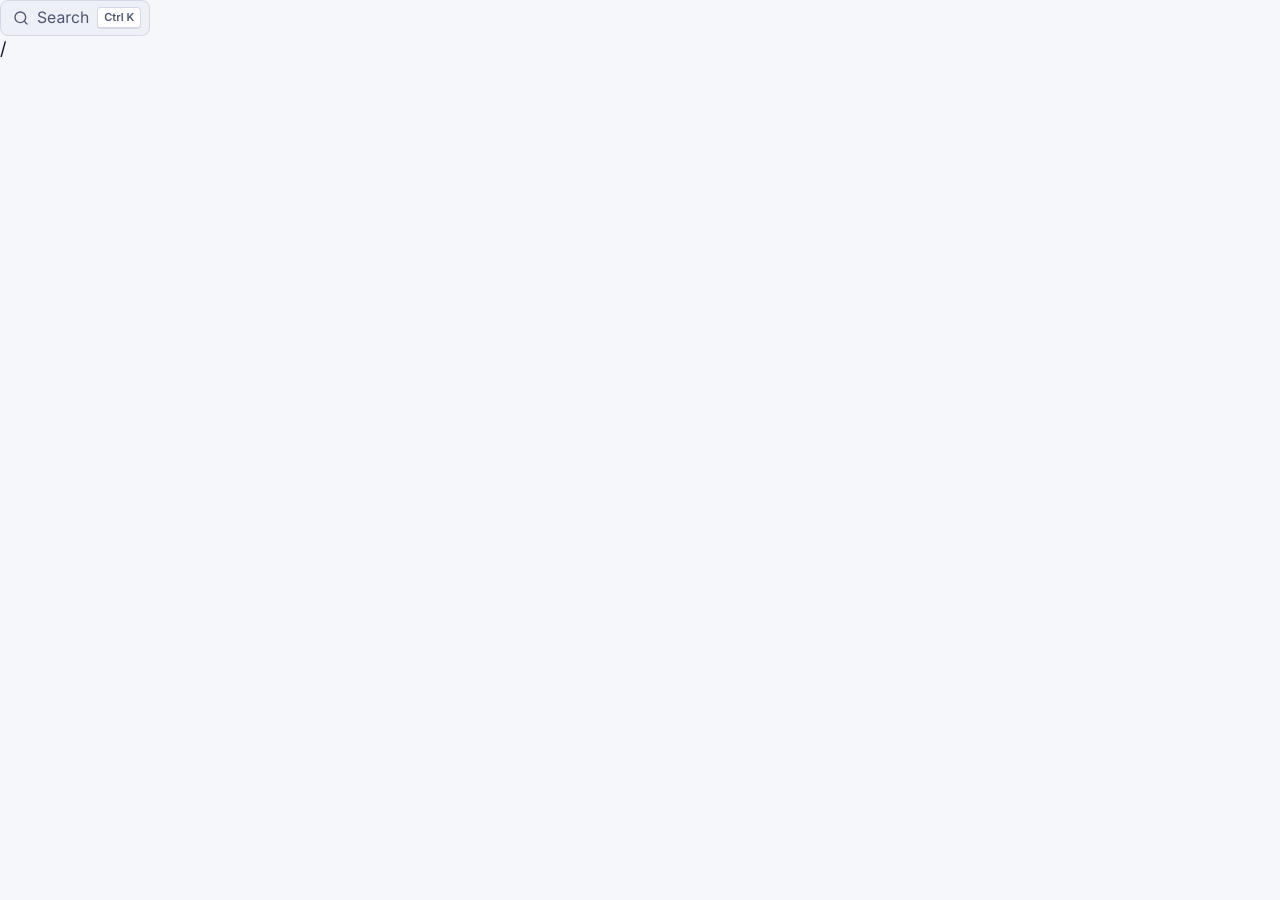
Test: command palette › opens with Ctrl+K, searches the API and opens the chosen result
Press k
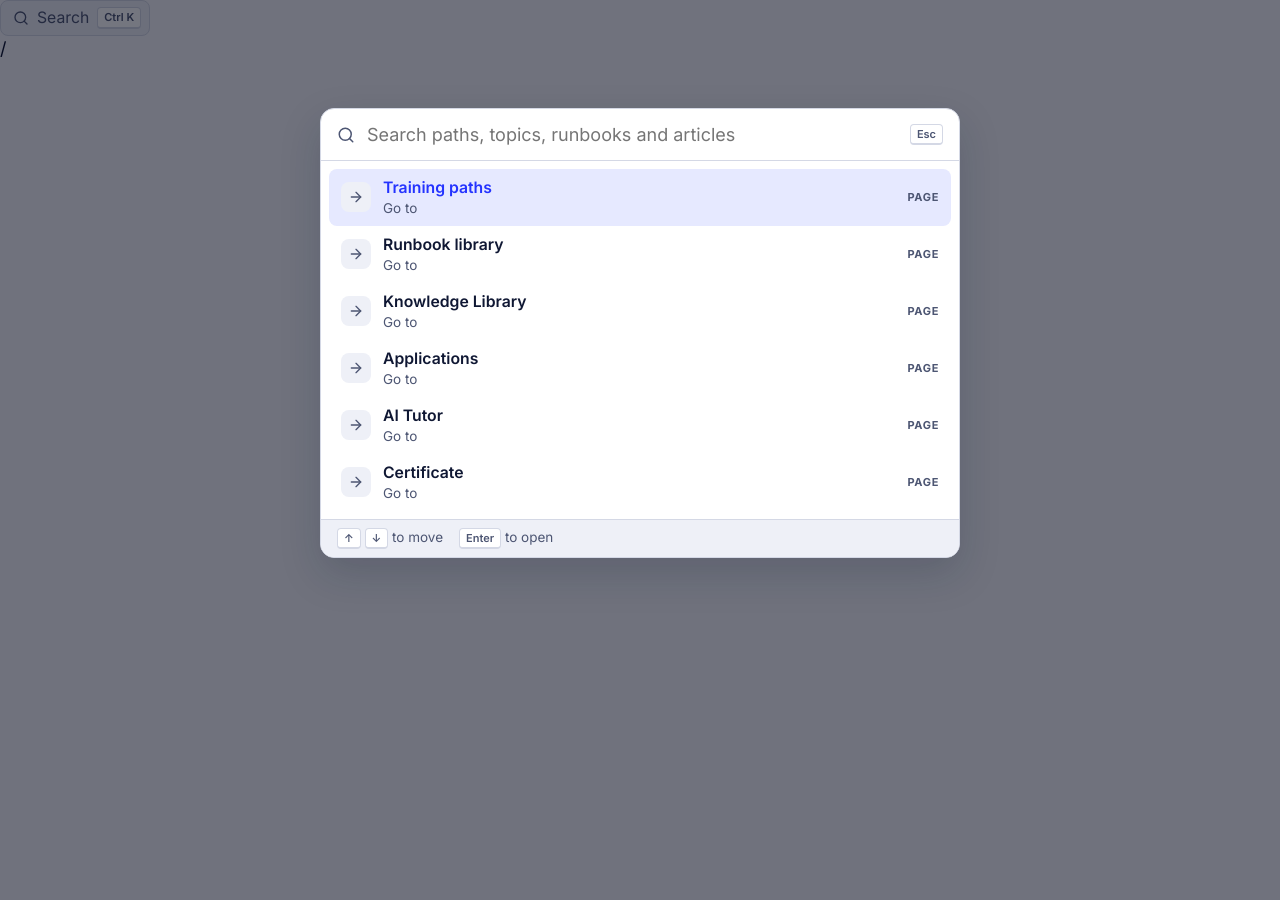
In the dropdown labelled "Search paths, topics, runbooks and articles": (632, 134) x1=367 y1=121 x2=898 y2=148, type "settle"
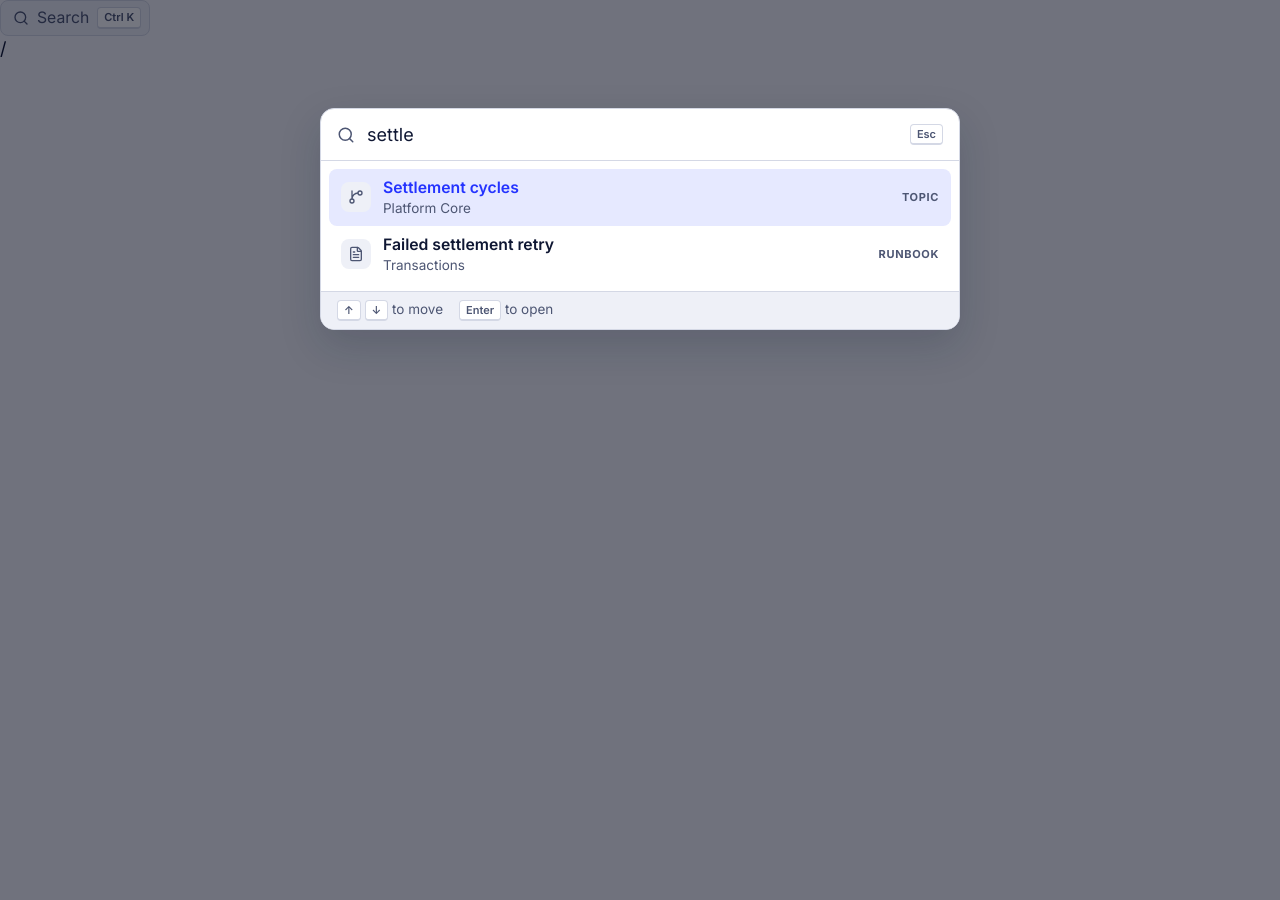
Result: the option "Failed settlement retry Transactions Runbook" is shown at x1=329 y1=226 x2=951 y2=283
Press ArrowDown in the dropdown named "Search paths, topics, runbooks and articles", box x1=367 y1=121 x2=898 y2=148
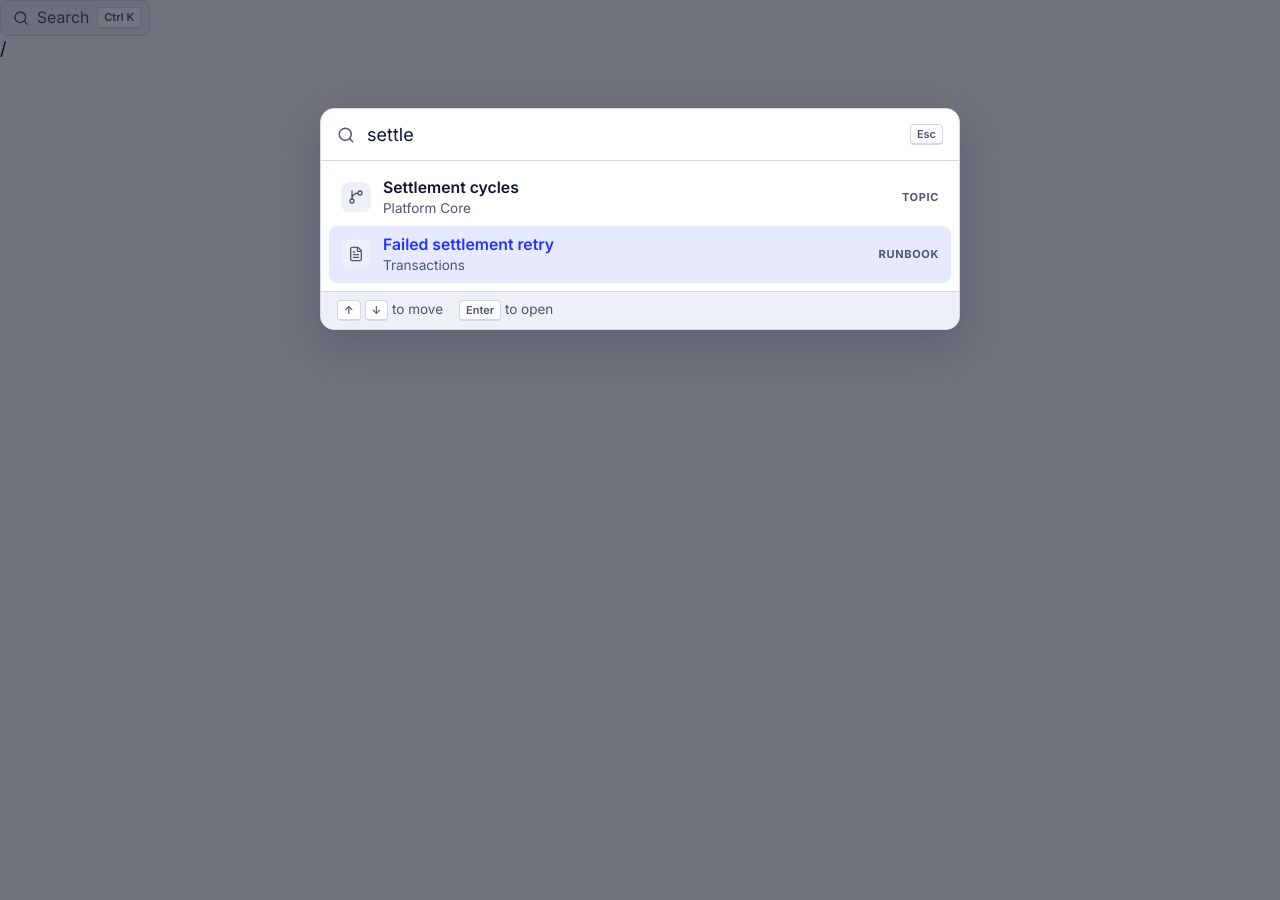
Press Enter in the dropdown named "Search paths, topics, runbooks and articles", box x1=367 y1=121 x2=898 y2=148
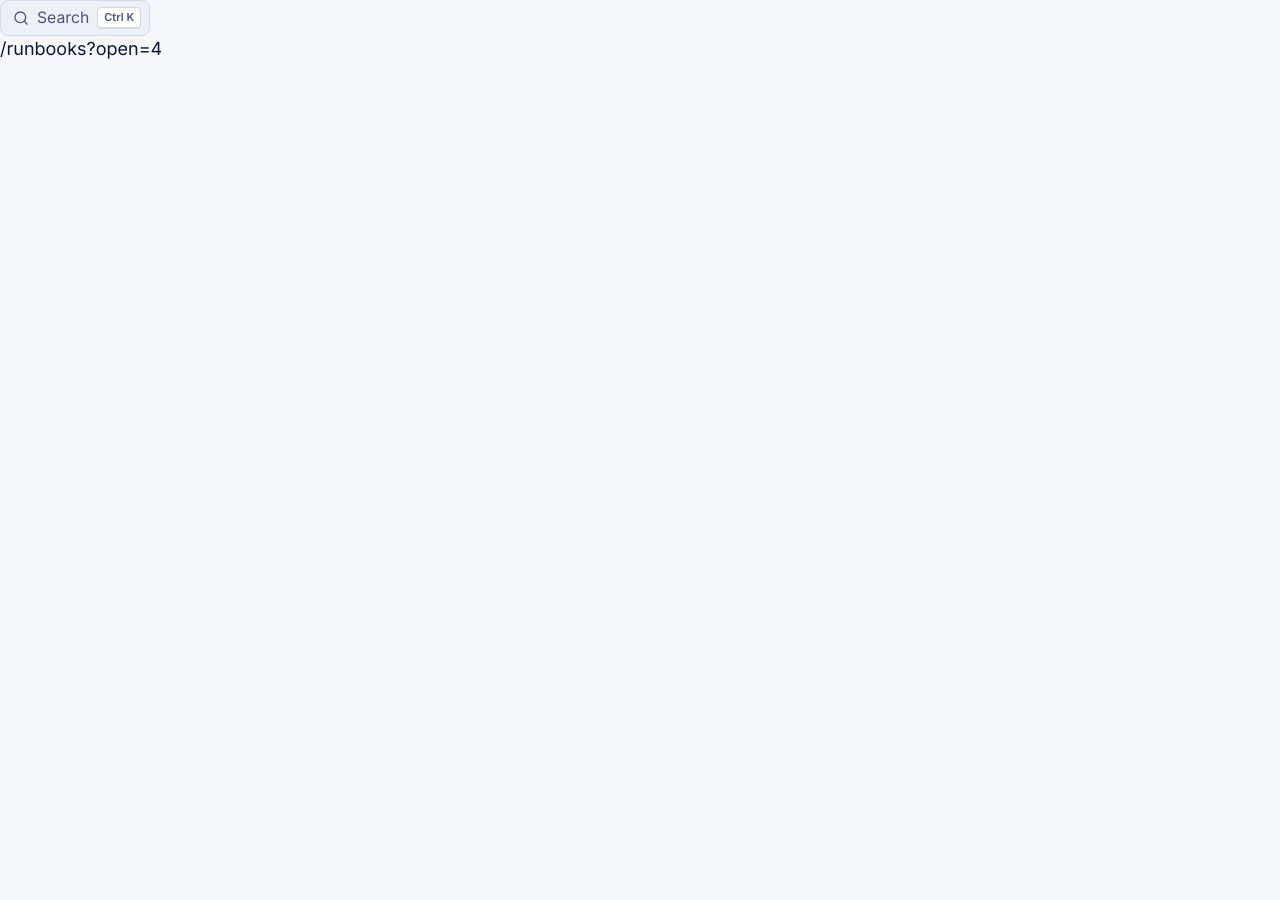
Result: the text with test id "location" reads "/runbooks?open=4" at x1=0 y1=38 x2=162 y2=59
Result: the dialog is gone
